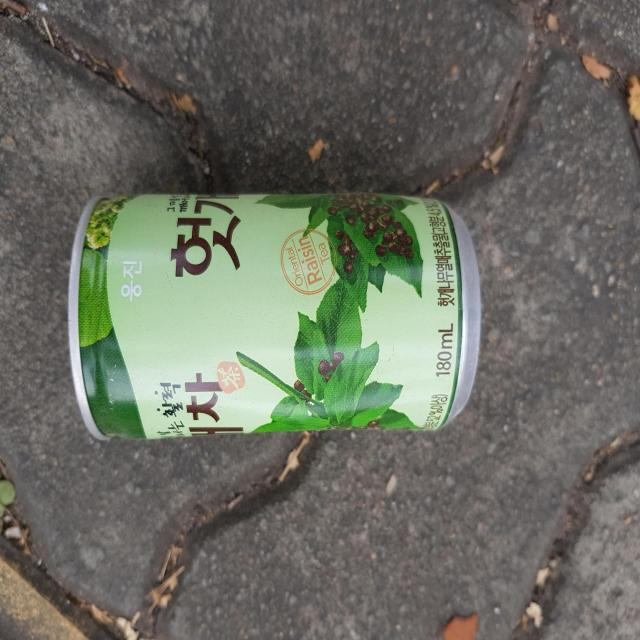can: (68, 192, 482, 439)
